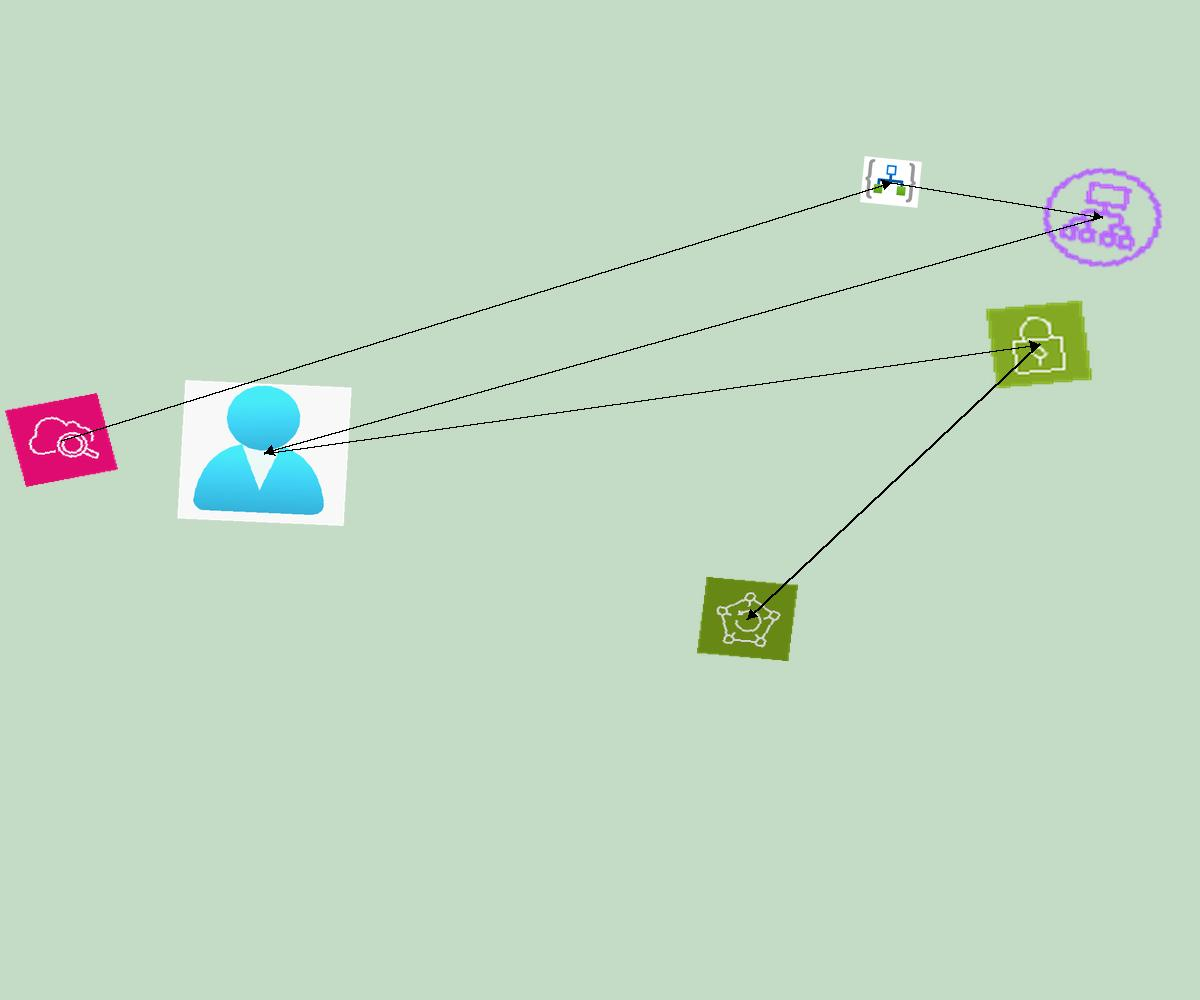AWS-Backup: (696, 576, 799, 662)
AWS-CloudWatch: (5, 393, 118, 487)
AWS-Public-subnet: (984, 299, 1094, 390)
AWS-Res_Elastic-Load-Balancing_Application-Load-Balancer: (1025, 153, 1180, 282)
Azure_integration-204-Logic-Apps: (860, 156, 922, 208)
Azure_users: (177, 380, 352, 526)
